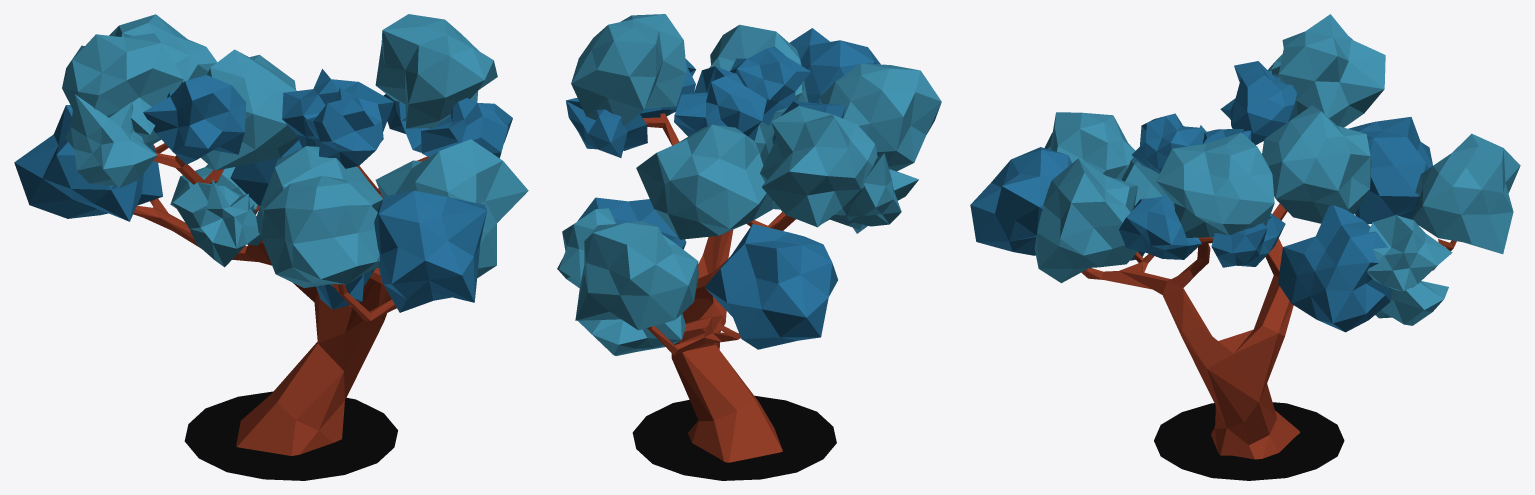
File: Drzewo1.fbx
The picture shows the model from 3 angles, left to right: view 1: azimuth 30°, elevation 25°; view 2: azimuth 150°, elevation 25°; view 3: azimuth 270°, elevation 25°; orthographic projection. The views are drawn at different scales.
Visible parts, largest first — view 1: Icosphere.009; view 2: Icosphere.009; view 3: Icosphere.009.
Boxes of the visible parts, bbox=[...] form: Icosphere.009: bbox=[14, 14, 528, 480]; Icosphere.009: bbox=[557, 14, 941, 480]; Icosphere.009: bbox=[970, 14, 1520, 480].
Bounding box in the file's own units: 1434 × 1519 × 2054.
